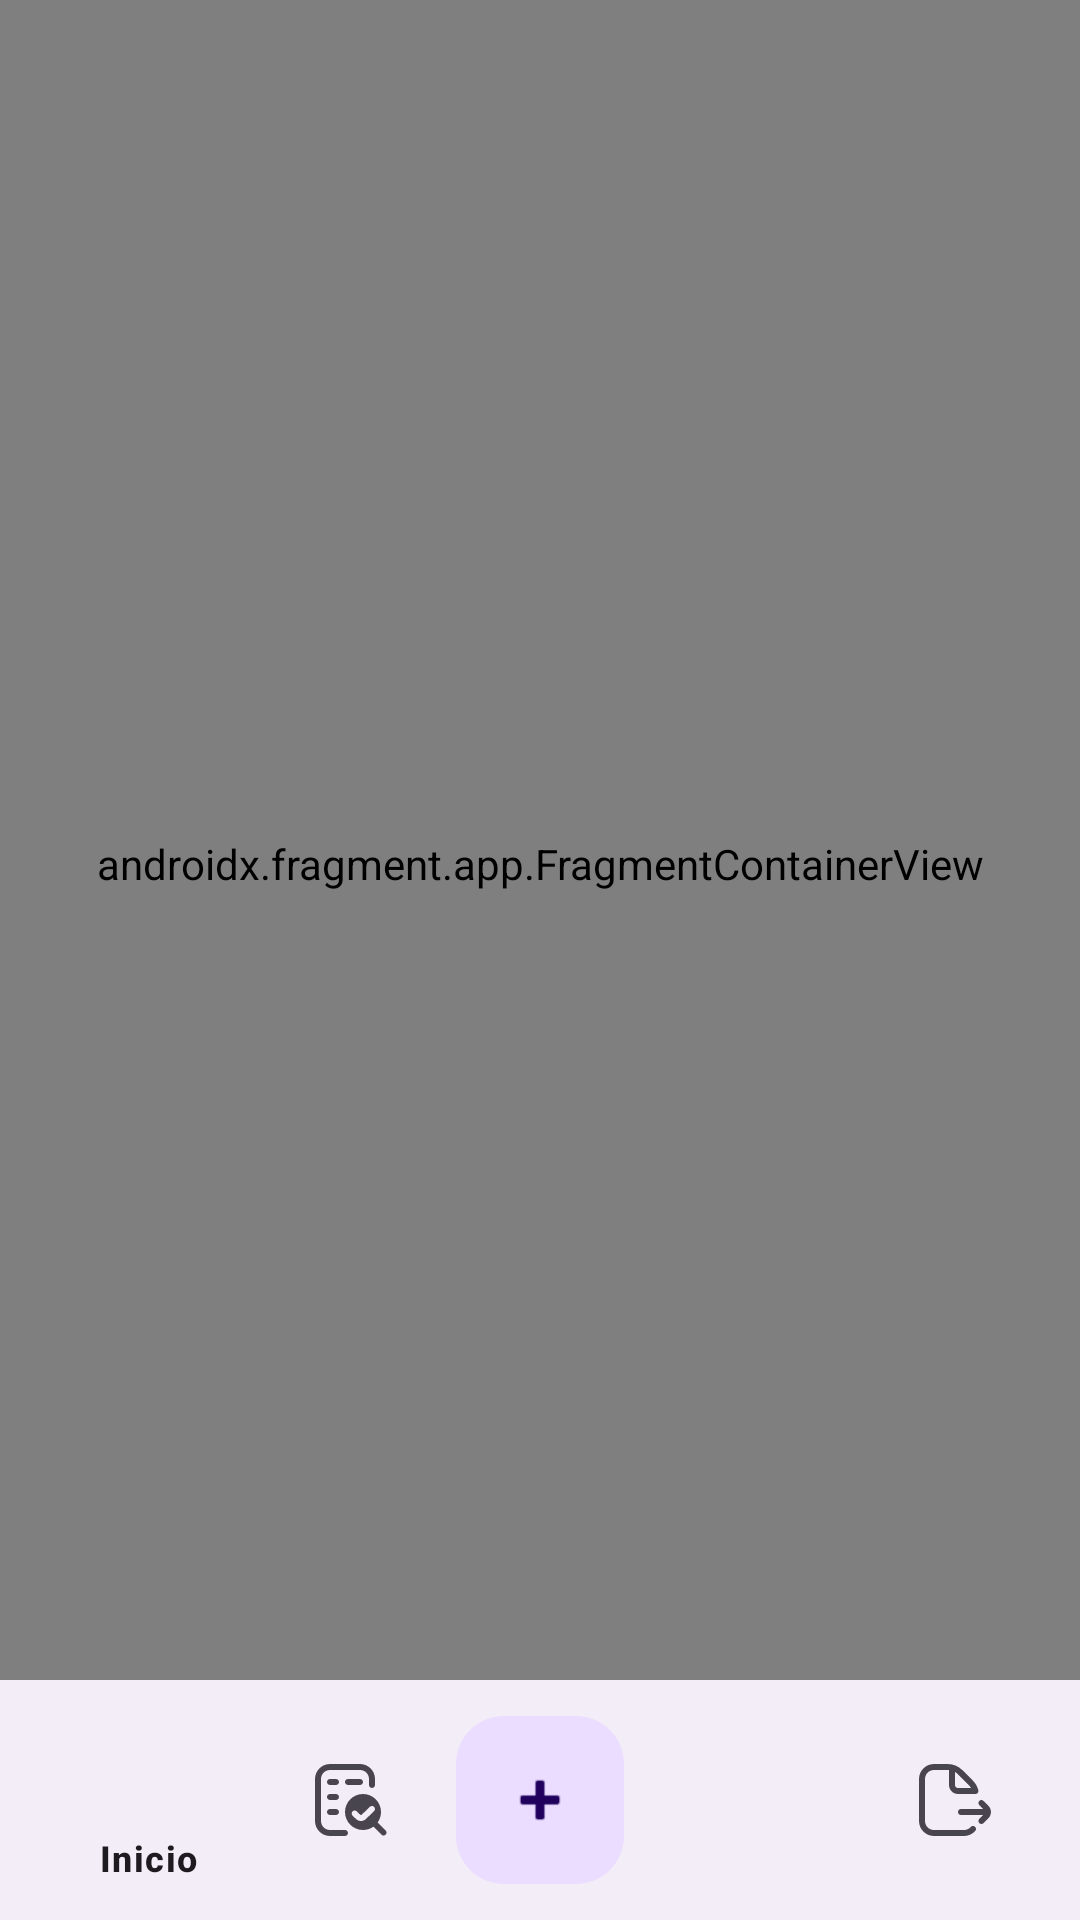

Icons on this 1080px x 1920px Android screen, each with its box as (x1, y1, x2, y2):
Añadir nuevo reporte: (456, 1752, 624, 1884)
